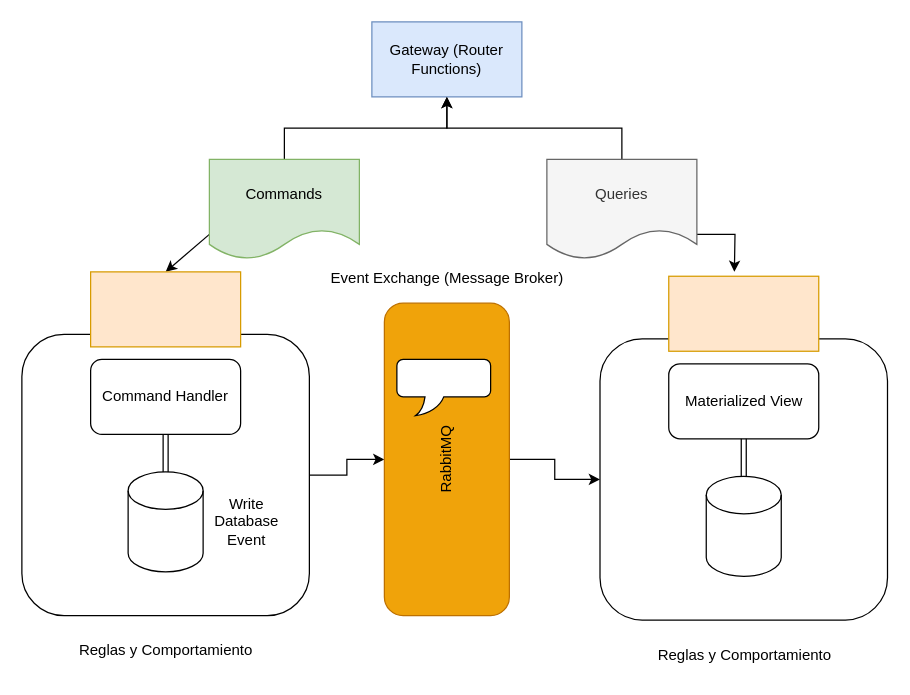
Image size: 910x695. Some labels were removed from this diagram. Here are the shapes that lost their labels. From the top down, the centre of each, then its label:
pixel 165 309: API (UseCases)
pixel 743 313: API (Use Cases)
pixel 443 387: Events
